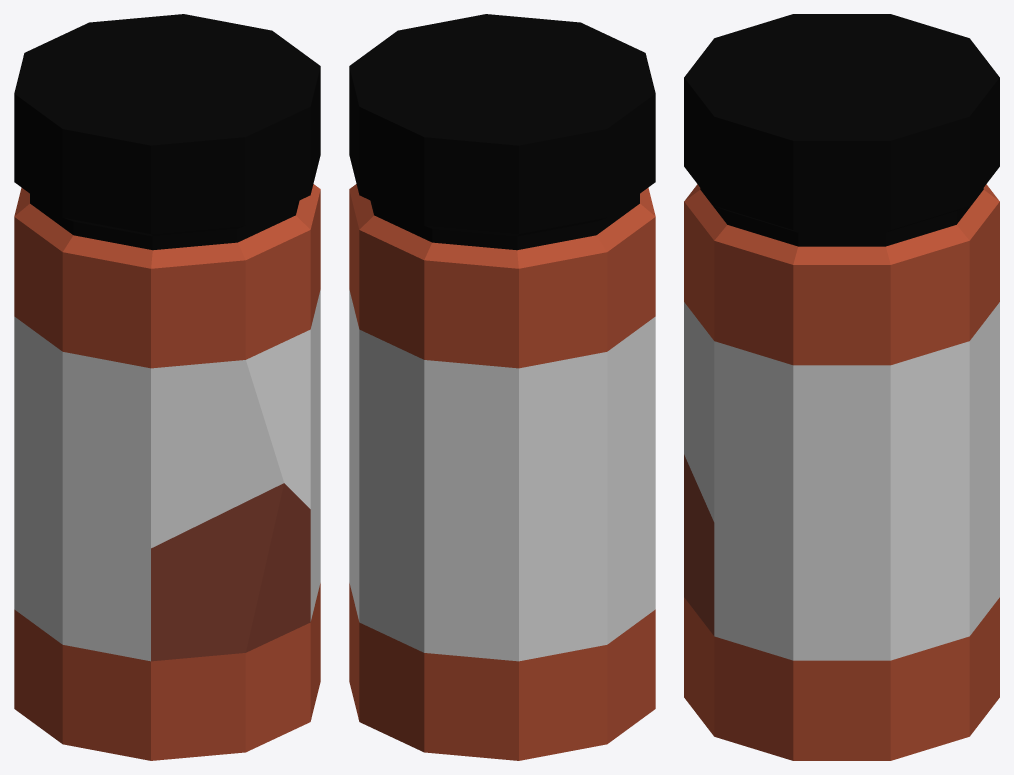
Rendered from Atsuete.fbx.
3 renders of one model, left to right at view 1: azimuth 30°, elevation 25°; view 2: azimuth 150°, elevation 25°; view 3: azimuth 270°, elevation 25°, orthographic.
Visible parts, largest first — view 1: Atsuete; view 2: Atsuete; view 3: Atsuete.
Boxes of the visible parts, x1,y1,x2,y2 form: Atsuete: (14,14,320,760); Atsuete: (349,14,655,760); Atsuete: (684,14,999,760).
Bounding box in the file's own units: 23.08 × 52.58 × 24.26.
